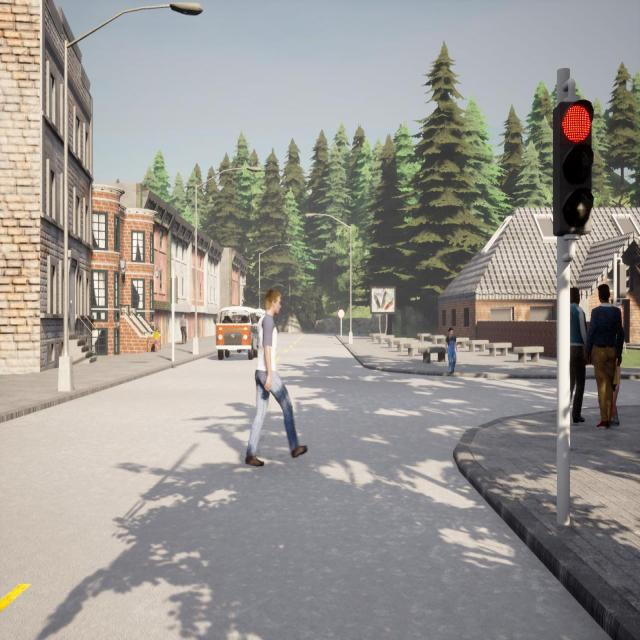Pedestrian: (245, 289, 307, 466), (593, 284, 628, 428), (563, 285, 590, 425), (443, 326, 458, 379), (178, 310, 188, 346), (152, 328, 161, 353), (357, 320, 362, 335)
Traffic_Signs: (337, 308, 345, 318)
Vehicle: (216, 306, 264, 359)
traffic_light: (553, 97, 593, 236)
